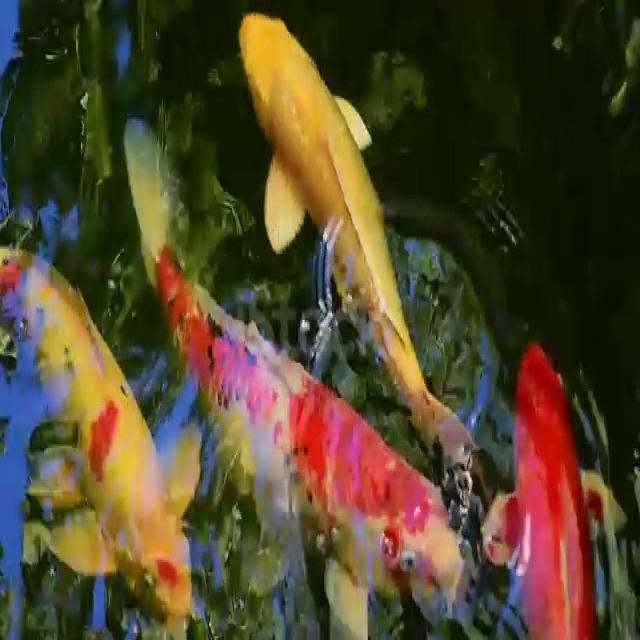fish: (122, 120, 473, 616), (238, 12, 490, 471), (1, 232, 207, 640), (476, 328, 632, 639)
